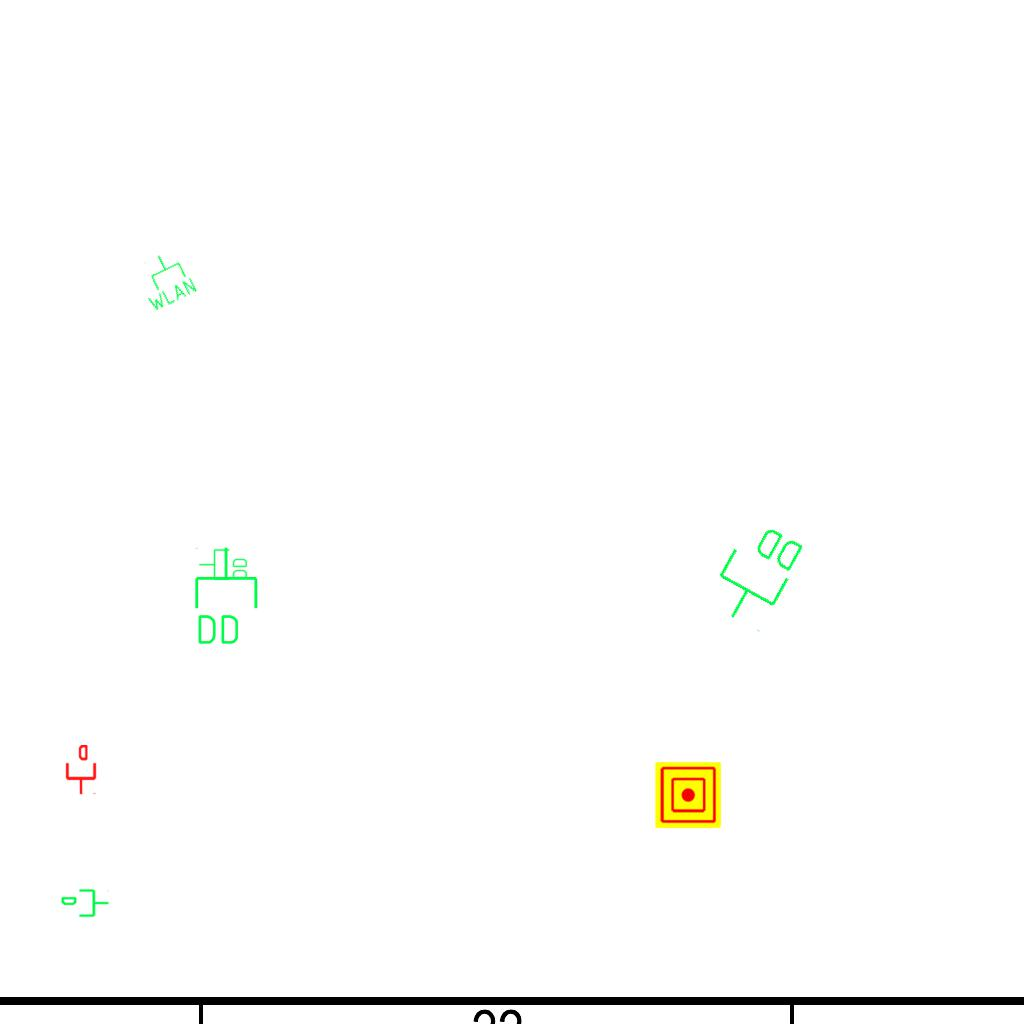Datenanschluss_einfach: (64, 745, 98, 795), (60, 887, 110, 921)
Datenanschluss_zweifach: (701, 512, 812, 637), (191, 545, 260, 648), (198, 548, 249, 582)
NAM-Nichtautomatischer_Melder: (655, 762, 721, 828)
WLAN: (130, 245, 200, 315)
